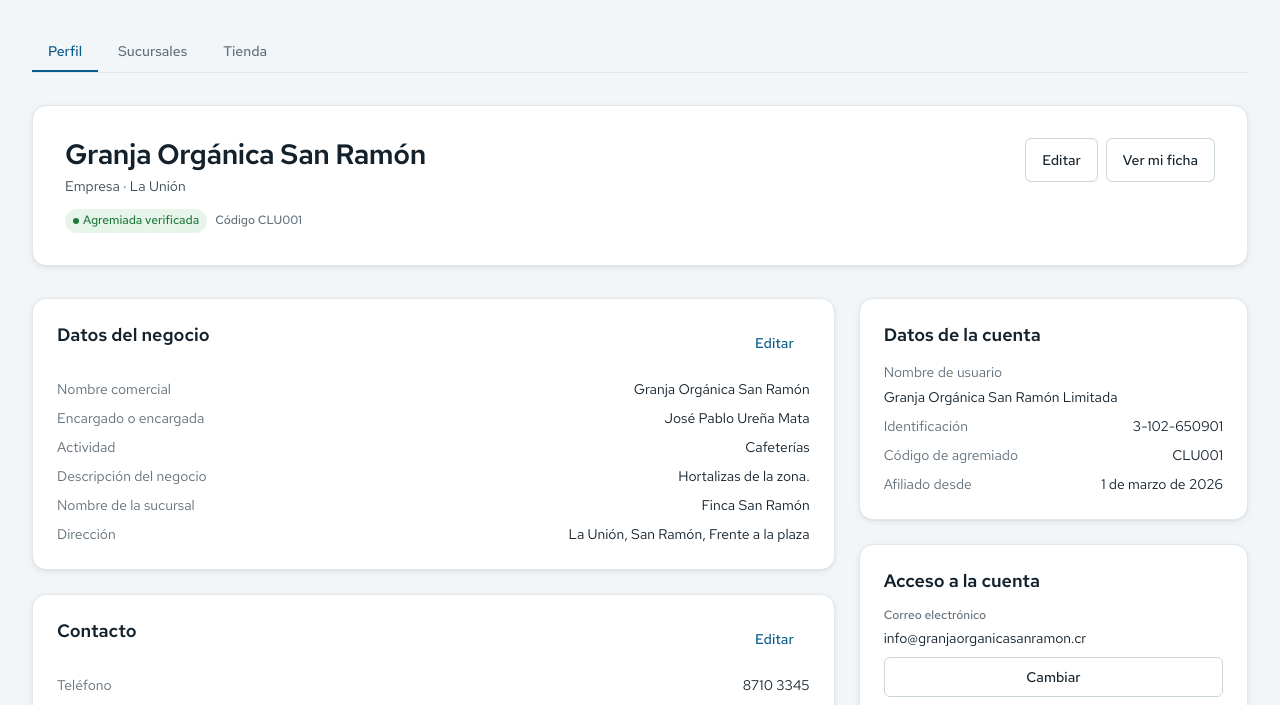
the profile screen › refuses an address written twice differently before anything is sent
Expected: the heading "Granja Orgánica San Ramón" is shown, [65, 138, 426, 172]
Click the button "Cambiar" at (1053, 677), box [884, 657, 1223, 697]
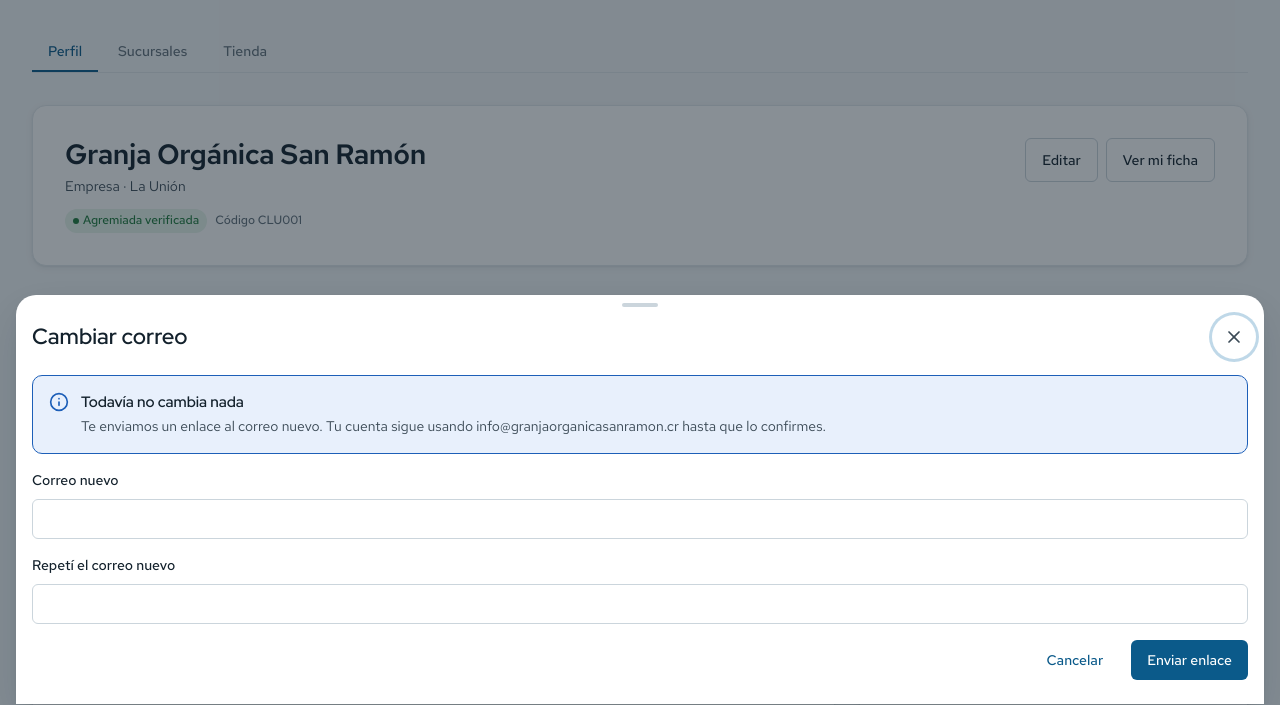
Type "nuevo@example.cr" into the field labelled "Correo nuevo" at (640, 519), box [32, 499, 1248, 539]
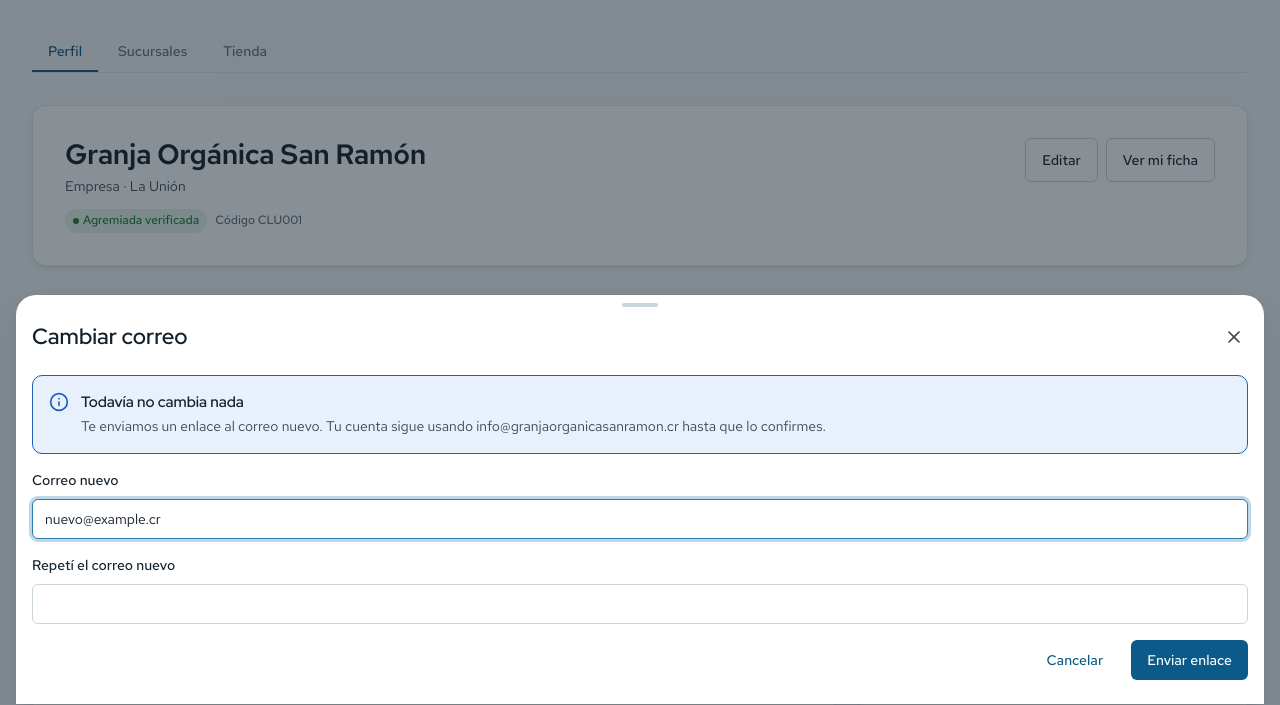
Type "otro@example.cr" into the field labelled "Repetí el correo nuevo" at (640, 604), box [32, 584, 1248, 624]
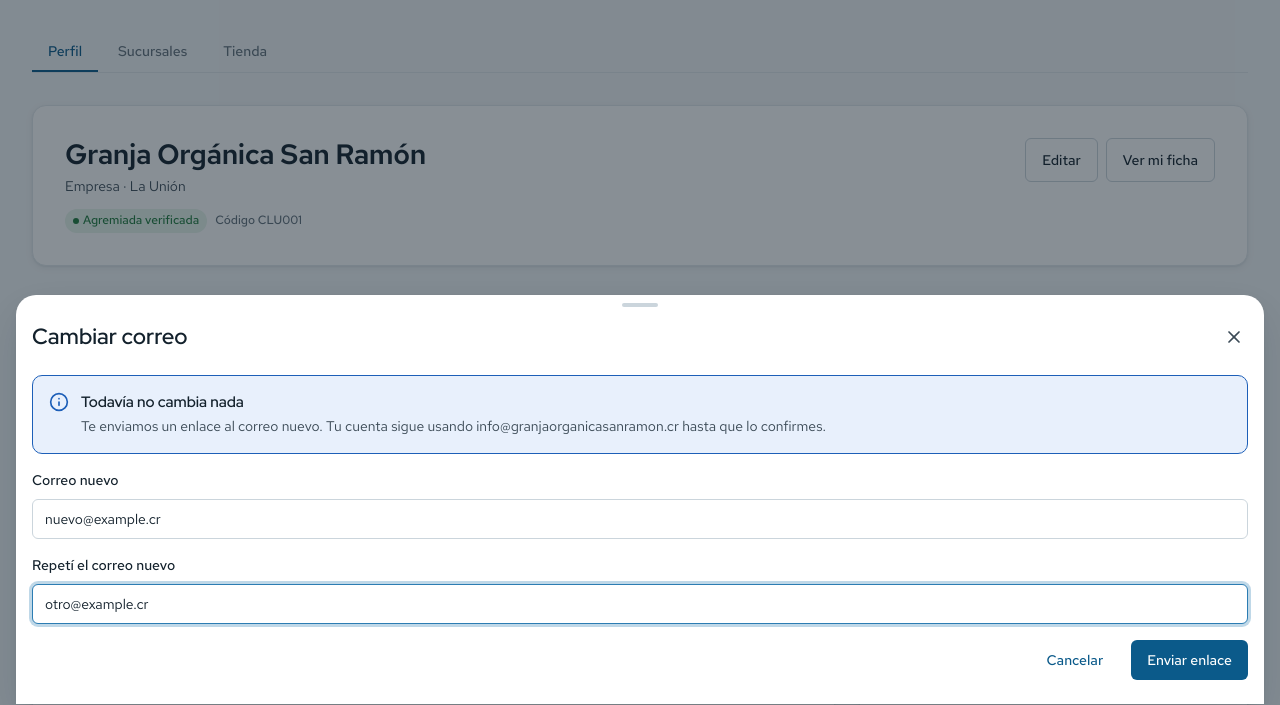
Click the button "Enviar enlace" at (1190, 660), box [1131, 640, 1248, 680]
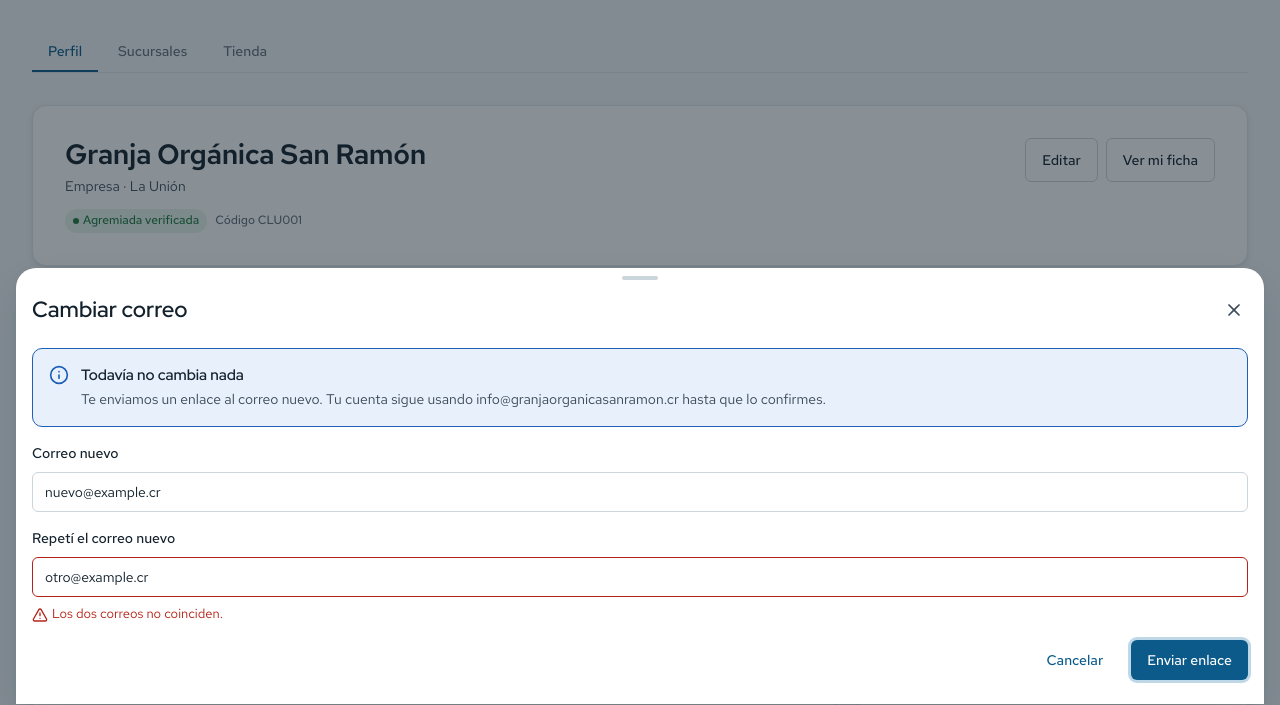
Expected: the text "Los dos correos no coinciden." is shown, [32, 605, 223, 623]
